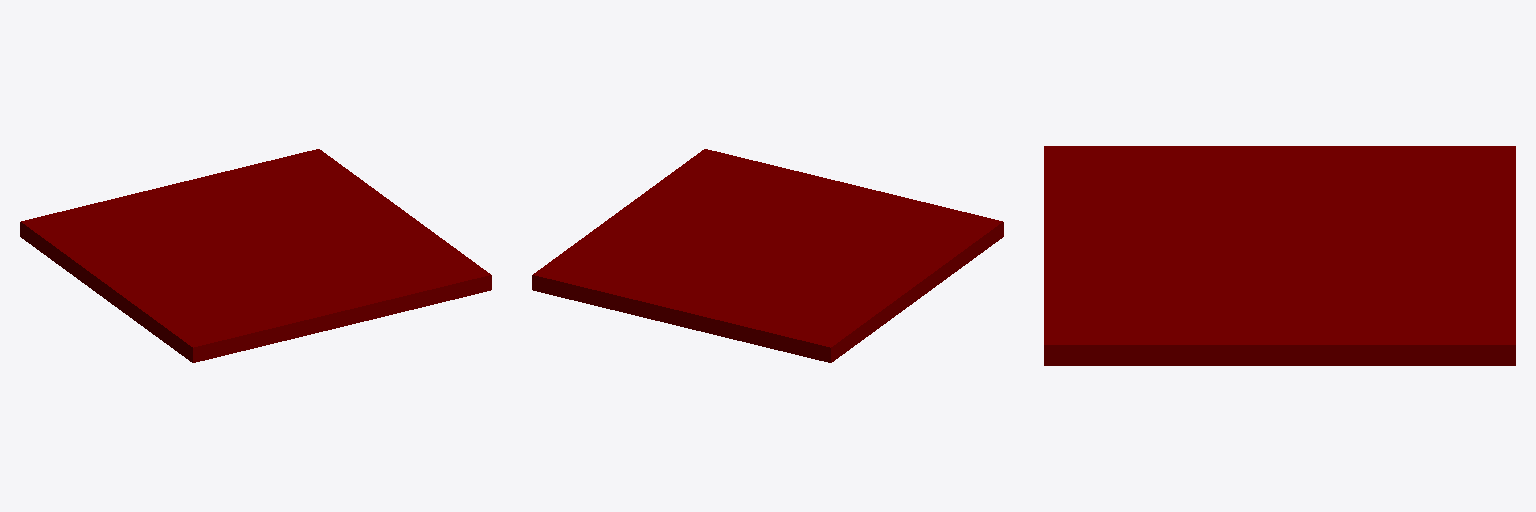
The robot description file, URDF, robot "table":
<?xml version="1.0" ?>

<robot name="table">

    <link name="table_frame">
        <visual>
            <origin xyz="0 0 0"/>
            <geometry>
                <box size="2 2 0.1"/>
            </geometry>
            <material name="steel">
                <color rgba="0.5 0 0 0.9"/>
            </material>
        </visual>
        <collision>
            <origin xyz="0 0 0"/>
            <geometry>
                <box size="2 2 0.1"/>
            </geometry>
            <material name="">
                <contact name="steel"/>
            </material>
        </collision>
        <inertial>
            <mass value="10"/>
            <inertia ixx="100" ixy="0.0" ixz="0.0" iyy="100" iyz="0.0" izz="100"/>
            <origin xyz="0 0 0"/>
        </inertial>
    </link>

</robot>

--- Facts derived from the render (not from the file) ---
3 views of the same robot in one strip: view 1: azimuth 30°, elevation 25°; view 2: azimuth 150°, elevation 25°; view 3: azimuth 270°, elevation 25° (orthographic).
Model table with 1 links and 0 joints (none), rooted at table_frame, posed all joints at 0.
Visible links, largest first — view 1: table_frame; view 2: table_frame; view 3: table_frame.
Boxes of the visible links, x1,y1,x2,y2 form: table_frame: (20, 149, 491, 362); table_frame: (532, 149, 1003, 362); table_frame: (1044, 146, 1515, 365).
Size in the robot's own frame: 2 by 2 by 0.1 metres.
Geometry: primitives only (box / cylinder / sphere), no mesh files.